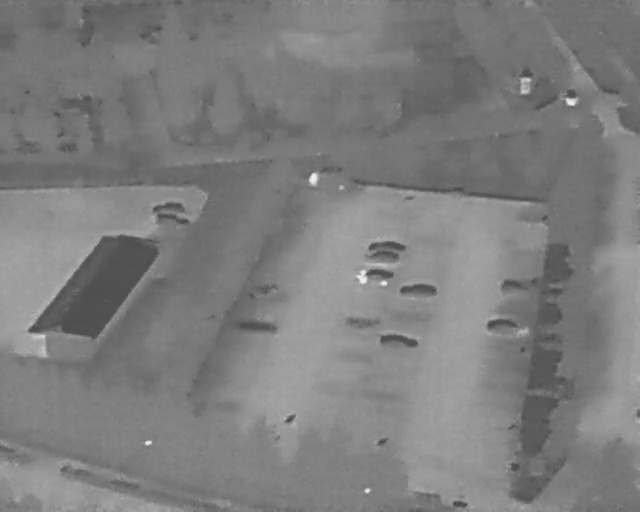Car: (486, 318, 528, 338), (354, 268, 395, 286), (378, 332, 419, 349), (154, 213, 190, 230), (399, 283, 437, 298), (151, 201, 186, 216), (369, 241, 407, 254), (501, 280, 530, 297), (364, 251, 399, 264)
